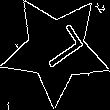L_SW: (27, 23, 84, 77)
